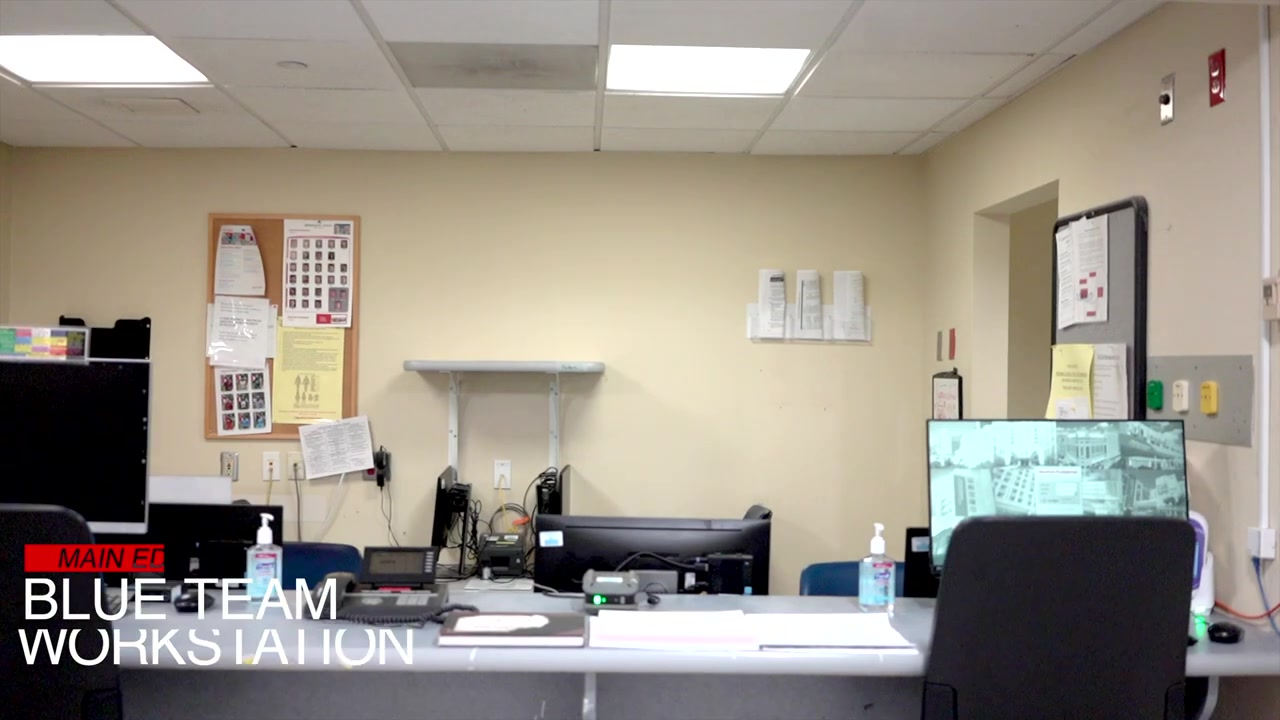chair: (920, 516, 1199, 720), (1, 498, 102, 720), (799, 560, 906, 600), (283, 539, 362, 591)
computer: (926, 416, 1192, 589), (1, 357, 148, 533), (531, 516, 771, 599), (133, 504, 287, 585), (432, 465, 457, 565)
countertop: (97, 596, 1271, 693)
dispenser: (857, 522, 897, 614), (245, 512, 287, 599)
mouse: (173, 590, 214, 615), (1208, 621, 1246, 644)
telephone: (302, 546, 450, 622)
